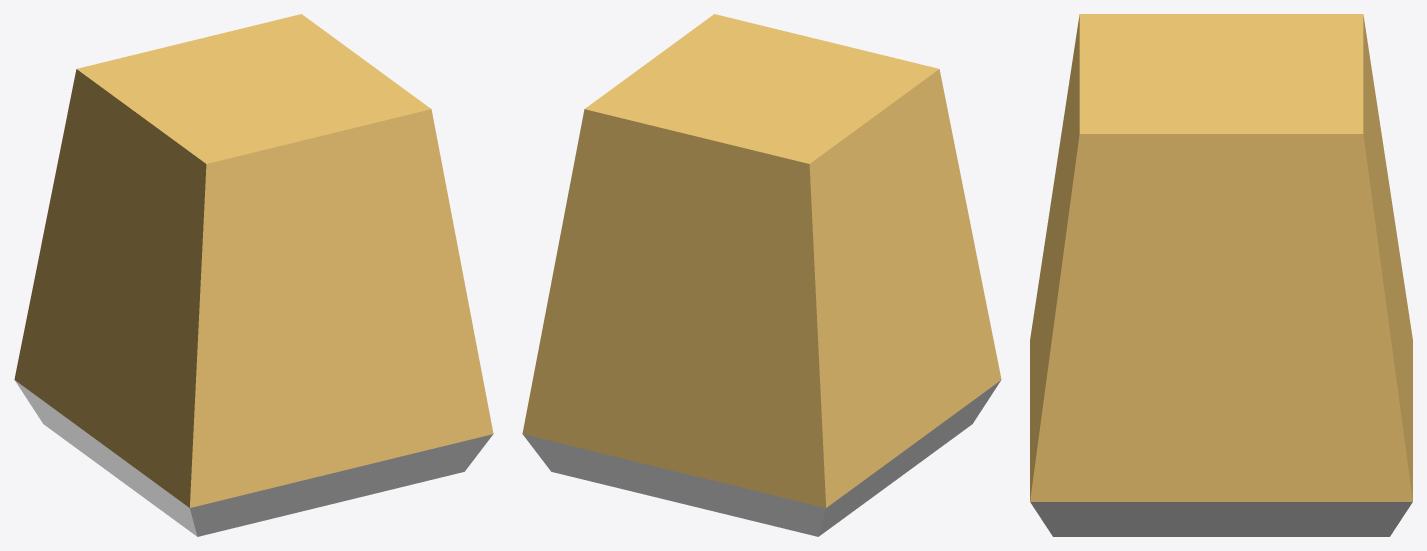
Rendered from Yellow_pipe.fbx.
3 views of the same model, side by side, from view 1: azimuth 30°, elevation 25°; view 2: azimuth 150°, elevation 25°; view 3: azimuth 270°, elevation 25° (orthographic). The views are drawn at different scales.
Visible parts, largest first — view 1: Cube.009; view 2: Cube.009; view 3: Cube.009.
Part boxes in pixels (bbox=[...]): Cube.009: bbox=[14, 14, 493, 536]; Cube.009: bbox=[522, 14, 1001, 536]; Cube.009: bbox=[1030, 14, 1412, 536].
Bounding box in the file's own units: 200 × 226 × 200.
